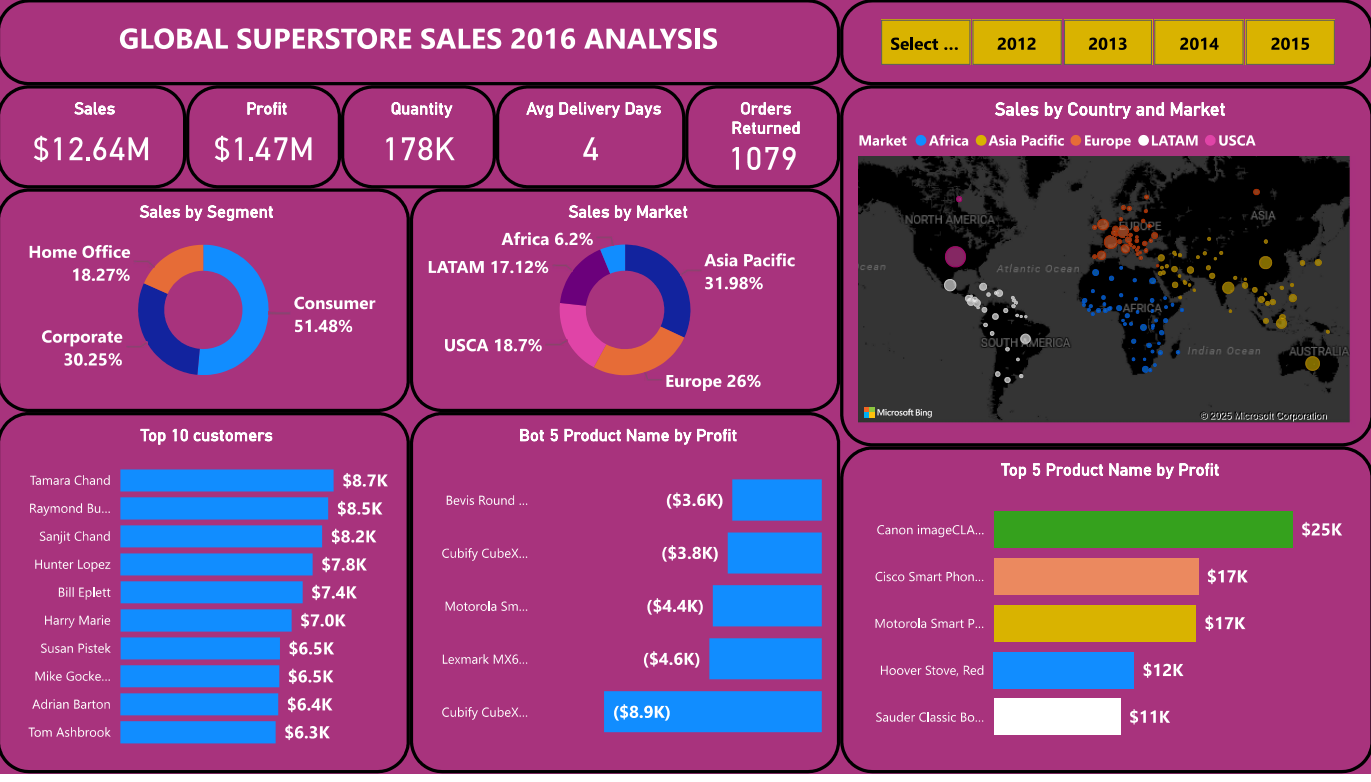

The page's visual inventory and layout, read from the dashboard file:
{"tool":"powerbi","page":{"name":"Page 1","canvas":[1280,720],"ordinal":0},"visuals":[{"type":"textbox","box":[0,0,784,80],"z":0},{"type":"card","title":"Sales","fields":{"Values":["Orders.Sales"]},"box":[0,80,176,96],"z":1},{"type":"card","title":"Profit","fields":{"Values":["Orders.Profit"]},"box":[176,80,144,96],"z":2},{"type":"card","title":"Quantity","fields":{"Values":["Orders.Quantity"]},"box":[320,80,144,96],"z":3},{"type":"card","title":"Avg Delivery Days","fields":{"Values":["Orders.Delivery_Days"]},"box":[464,80,176,96],"z":5},{"type":"slicer","fields":{"Values":["Orders.Year"]},"box":[784,0,496,80],"z":6},{"type":"card","title":"Orders Returned","fields":{"Values":["Returns.Return Orders"]},"box":[640,80,144,96],"z":7},{"type":"map","title":"Sales by Country and Market","fields":{"Category":["Orders.Country"],"Size":["Orders.Sales"],"Series":["Orders.Market"]},"box":[784,80,496,336],"z":8},{"type":"barChart","title":"Top 5 Product Name by Profit","fields":{"Category":["Orders.Product Name"],"Y":["Orders.Profit"]},"box":[784,416,496,304],"z":9},{"type":"barChart","title":"Bot 5 Product Name by Profit","fields":{"Category":["Orders.Product Name"],"Y":["Orders.Profit"]},"box":[384,384,400,336],"z":10},{"type":"donutChart","title":"Sales by Segment","fields":{"Category":["Orders.Segment"],"Y":["Orders.Sales"]},"box":[0,176,384,208],"z":11},{"type":"donutChart","title":"Sales by Market","fields":{"Y":["Orders.Sales"],"Category":["Orders.Market"]},"box":[384,176,400,208],"z":12},{"type":"barChart","title":"Top 10 customers","fields":{"Y":["Orders.Profit"],"Category":["Orders.Customer Name"]},"box":[0,384,384,336],"z":13}]}

Visuals, with their boxes in screenshot pixels (x1, y1, x2, y2), scaled from the page's 1280x720 canvas onto the 1371x782 screenshot:
textbox: BBox(0, 0, 840, 87)
"Sales" card: BBox(0, 87, 189, 191)
"Profit" card: BBox(189, 87, 343, 191)
"Quantity" card: BBox(343, 87, 497, 191)
"Avg Delivery Days" card: BBox(497, 87, 686, 191)
slicer - Orders.Year: BBox(840, 0, 1370, 87)
"Orders Returned" card: BBox(686, 87, 840, 191)
"Sales by Country and Market" map: BBox(840, 87, 1370, 452)
"Top 5 Product Name by Profit" barChart: BBox(840, 452, 1370, 781)
"Bot 5 Product Name by Profit" barChart: BBox(411, 417, 840, 781)
"Sales by Segment" donutChart: BBox(0, 191, 411, 417)
"Sales by Market" donutChart: BBox(411, 191, 840, 417)
"Top 10 customers" barChart: BBox(0, 417, 411, 781)
